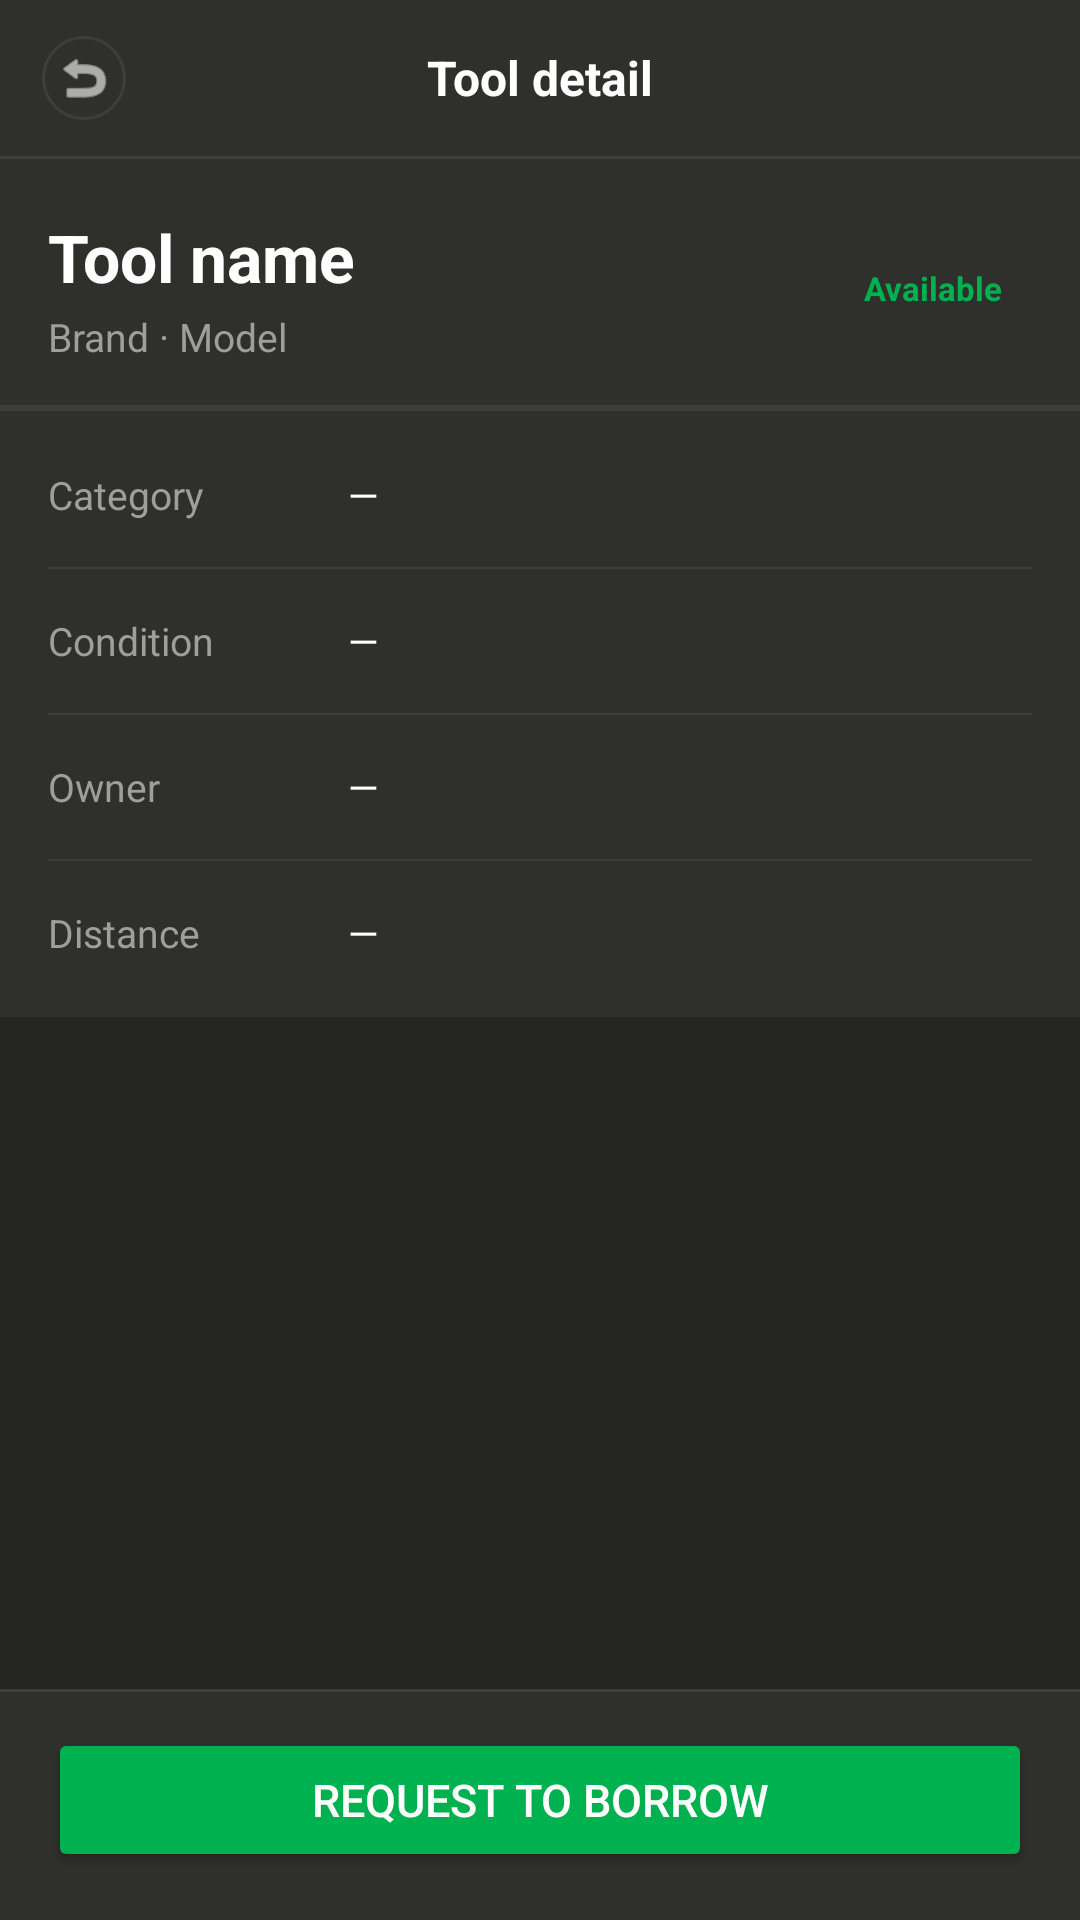

Icons on this 1080px x 1920px Android screen, each with the point to tap as [x,y]:
Back: [84,78]
